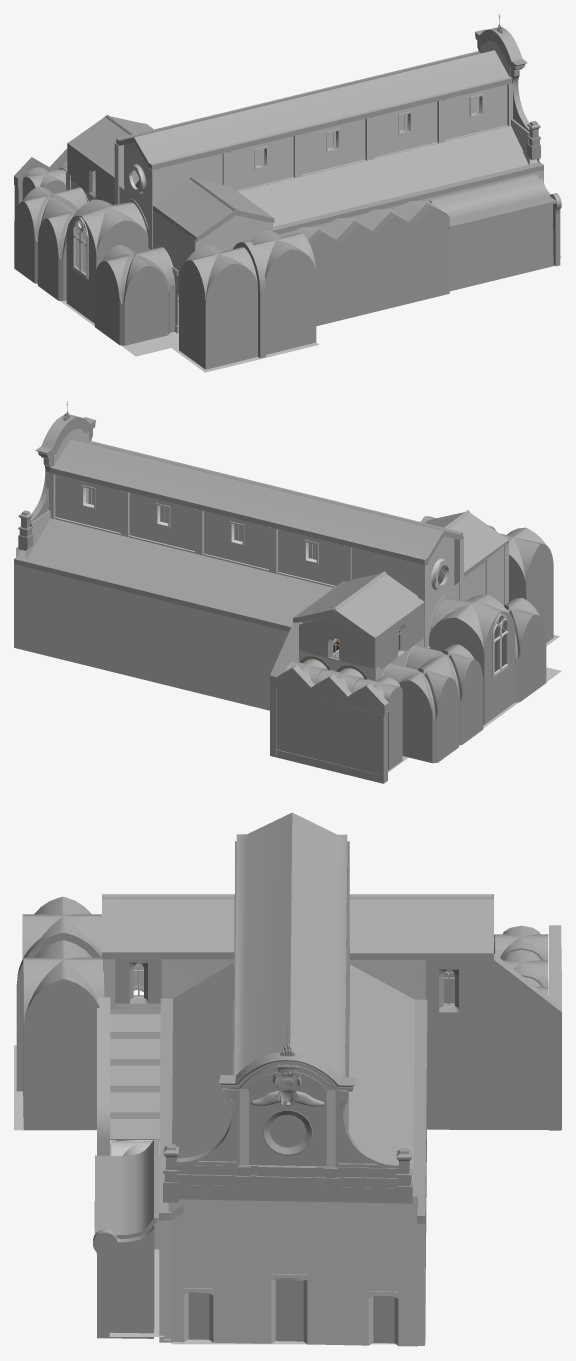
File: church_02-07.fbx
The picture shows the model from 3 angles, top to bottom: view 1: azimuth 30°, elevation 25°; view 2: azimuth 150°, elevation 25°; view 3: azimuth 270°, elevation 25°; orthographic projection. The views are drawn at different scales.
Visible parts, largest first — view 1: roof, low_roof1, wall, roof_a, vaulted_ceiling9, ribbed_vault, vaulted_ceiling, ribbed_vault_conjoined, dome_l, sideroof1, aisle_wall12, aisle_wall1 (+21 smaller); view 2: wall_long, roof, low_roof, ribbed_vault_conjoined, Painting_Wall_External, dome_l, sideroof, vaulted_ceiling9, ribbed_vault, aisle_wall11, aisle_wall9, aisle_wall15 (+18 smaller); view 3: front_interior_wall, roof, balcony_arch_wall, vaulted_ceiling (×2), low_roof, low_roof1, sideroof, sideroof1, front_base, wall_ornate, front_window_frame, wall_window_corner (+24 smaller).
Part boxes in pixels (left/top/right/bottom): roof: left=116, top=50, right=512, bottom=170; low_roof1: left=238, top=126, right=543, bottom=234; wall: left=308, top=203, right=449, bottom=326; roof_a: left=429, top=174, right=556, bottom=291; vaulted_ceiling9: left=179, top=244, right=257, bottom=369; ribbed_vault: left=94, top=245, right=175, bottom=345; vaulted_ceiling: left=250, top=230, right=316, bottom=354; ribbed_vault_conjoined: left=14, top=186, right=87, bottom=300; dome_l: left=66, top=199, right=148, bottom=323; sideroof1: left=153, top=177, right=274, bottom=241; aisle_wall12: left=367, top=101, right=439, bottom=157; aisle_wall1: left=227, top=135, right=297, bottom=190; wall_long: left=14, top=564, right=288, bottom=710; roof: left=50, top=439, right=462, bottom=564; low_roof: left=14, top=518, right=333, bottom=631; ribbed_vault_conjoined: left=383, top=644, right=483, bottom=763; Painting_Wall_External: left=276, top=689, right=387, bottom=783; dome_l: left=429, top=594, right=515, bottom=724; sideroof: left=293, top=571, right=424, bottom=642; vaulted_ceiling9: left=500, top=527, right=553, bottom=642; ribbed_vault: left=494, top=598, right=546, bottom=702; aisle_wall11: left=125, top=491, right=198, bottom=550; aisle_wall9: left=51, top=473, right=124, bottom=532; aisle_wall15: left=273, top=528, right=346, bottom=585; front_interior_wall: left=168, top=1196, right=417, bottom=1346; roof: left=234, top=812, right=347, bottom=1109; balcony_arch_wall: left=350, top=960, right=561, bottom=1129; vaulted_ceiling (×2): left=23, top=940, right=159, bottom=1249; low_roof: left=348, top=964, right=427, bottom=1223; low_roof1: left=159, top=962, right=234, bottom=1220; sideroof: left=349, top=894, right=493, bottom=959; sideroof1: left=102, top=894, right=234, bottom=959; front_base: left=175, top=1164, right=399, bottom=1203; wall_ornate: left=93, top=1225, right=154, bottom=1338; front_window_frame: left=249, top=1072, right=326, bottom=1166; wall_window_corner: left=425, top=953, right=561, bottom=1012.
Bounding box in the file's own units: 5453 × 2511 × 3966.
